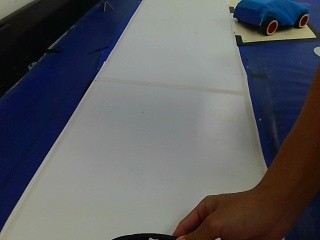car: (230, 1, 312, 37)
